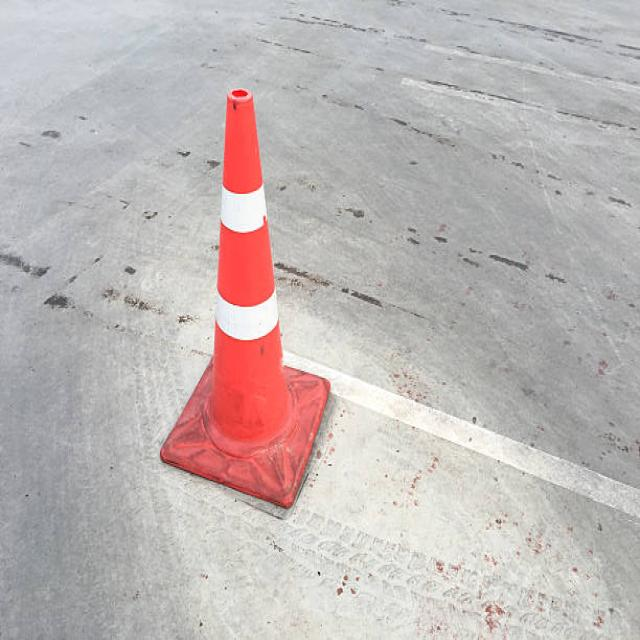Traffic Cone: (139, 52, 349, 535)
